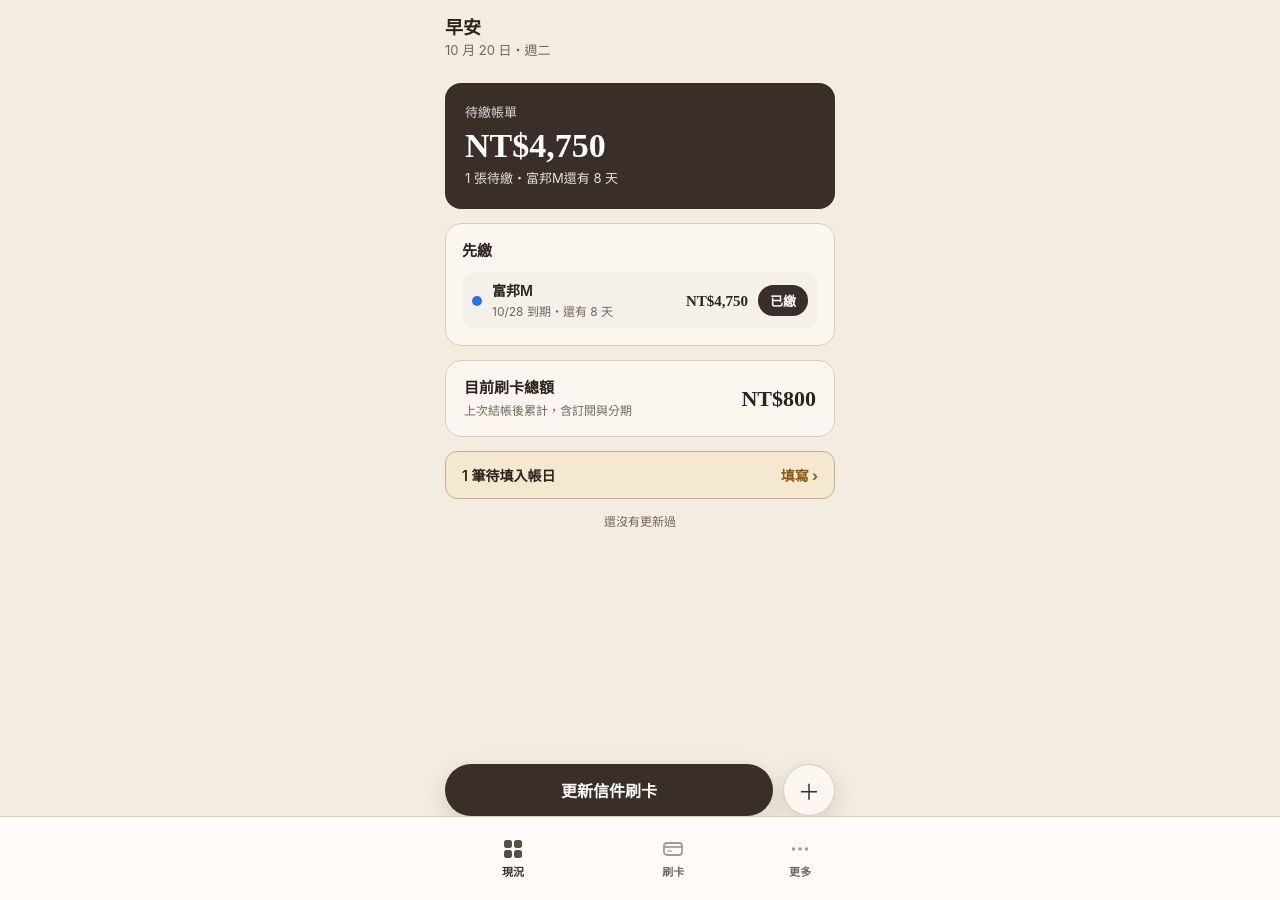
Scenario: 現況：待繳與目前刷卡總額 › 先繳那張按「已繳」，首頁待繳減掉那張的金額
Click the button "已繳" at (783, 301), box left=758, top=286, right=808, bottom=316
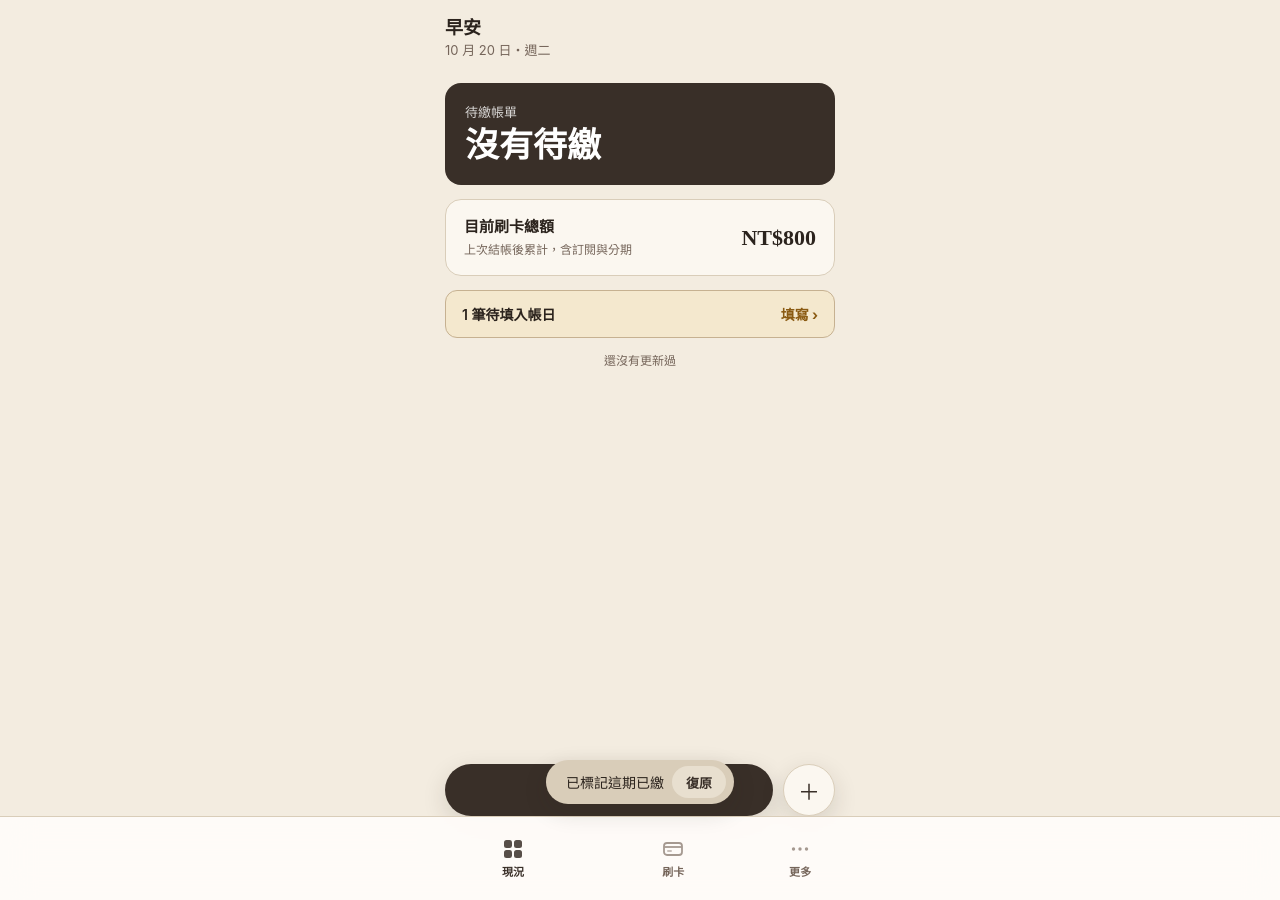
Expected: the element "待繳帳單" shows "沒有待繳", left=465, top=127, right=601, bottom=164
Expected: the text "先繳" is gone
